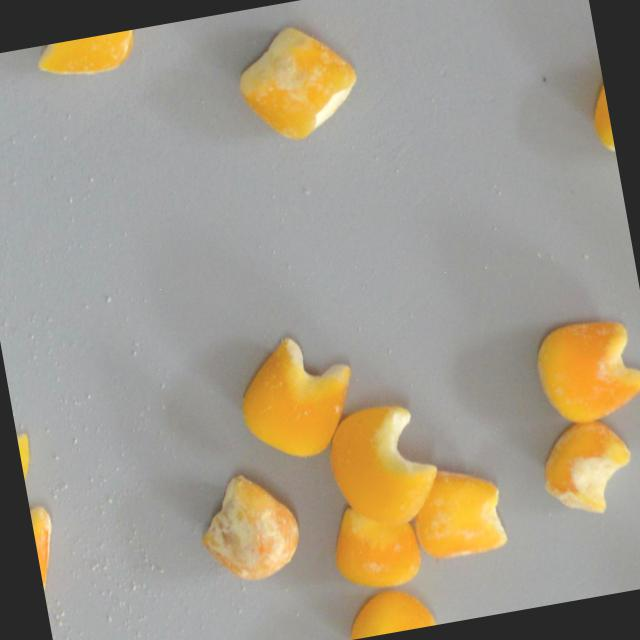dañado: (189, 459, 310, 594)
no_canjicado: (224, 321, 366, 469)
no_desgerminado: (318, 393, 449, 539), (338, 581, 436, 640)
pelicula: (226, 12, 365, 150), (521, 307, 640, 435), (531, 410, 640, 525), (404, 455, 512, 570), (321, 491, 426, 599), (17, 28, 139, 87), (25, 486, 72, 609), (580, 62, 619, 175), (8, 390, 40, 492)
